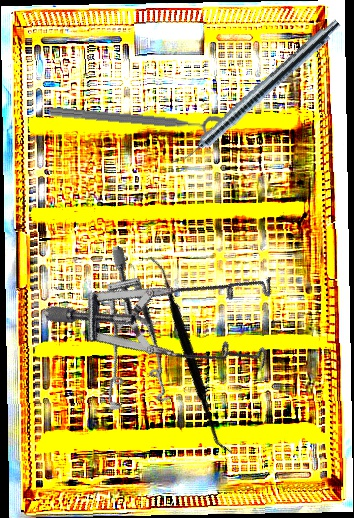Fixation Ring: (47, 101, 226, 147)
Handpiece: (168, 13, 344, 175)
Spatula Surgical: (85, 255, 297, 455)
Speculum: (40, 181, 309, 438), (50, 244, 220, 432)
